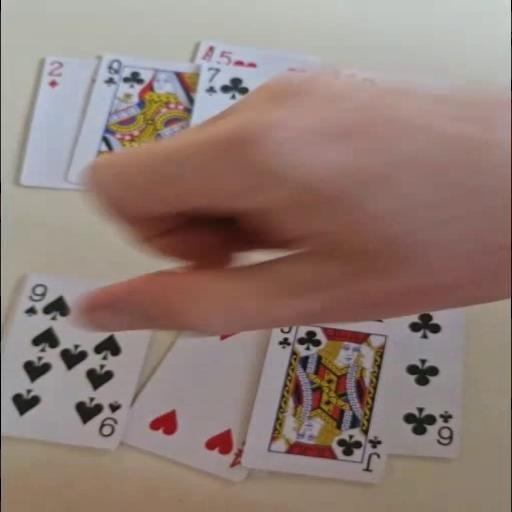2: (43, 57, 65, 89)
6: (434, 407, 456, 447)
9: (94, 398, 124, 439), (20, 280, 50, 318)
J: (358, 433, 384, 473), (274, 326, 296, 350)
Q: (100, 56, 122, 88)
